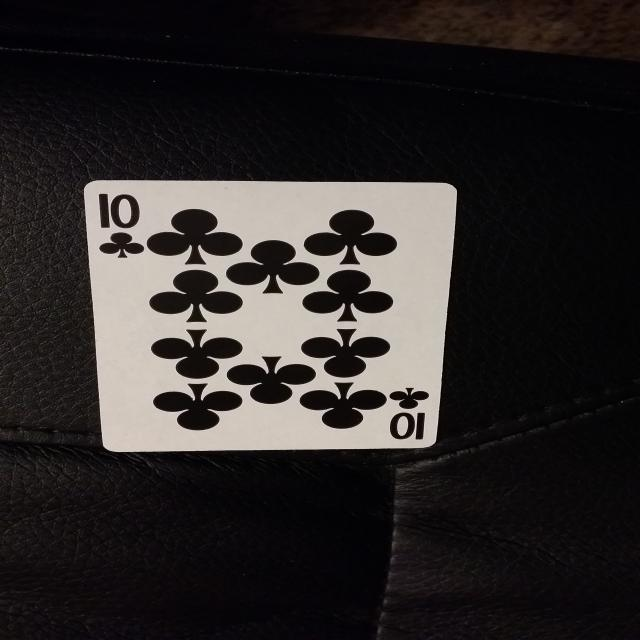10c: (84, 184, 158, 271), (377, 383, 440, 448)
